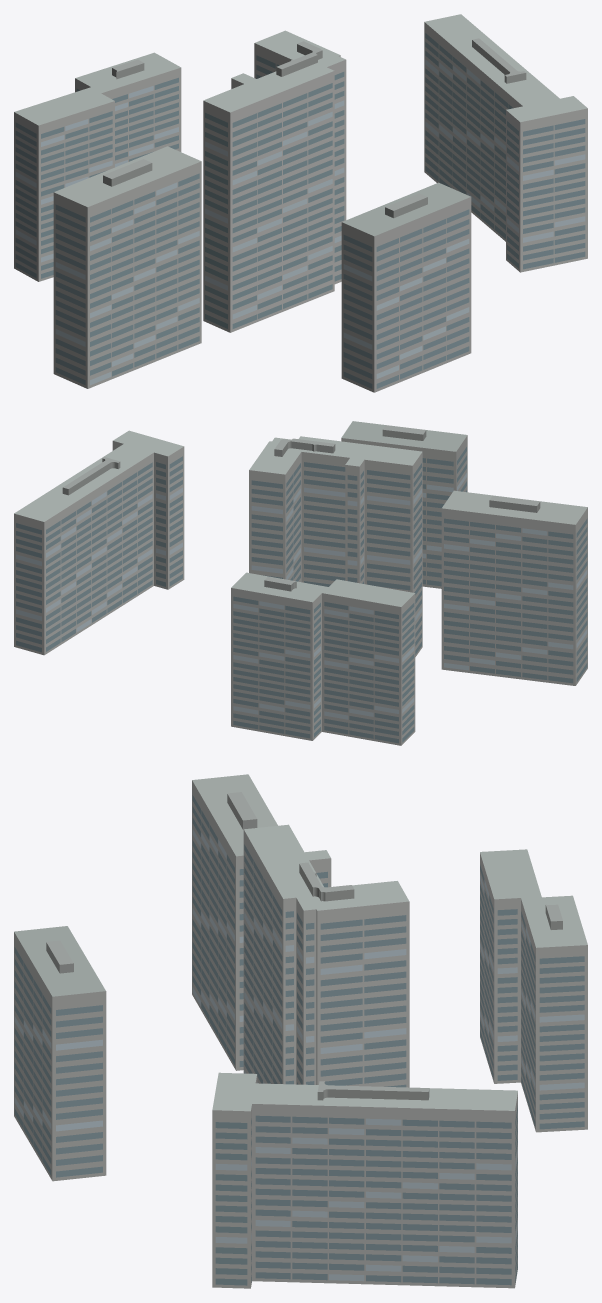
File: apt-a13075403.glb
3 renders of one model, top to bottom at view 1: azimuth 30°, elevation 25°; view 2: azimuth 150°, elevation 25°; view 3: azimuth 270°, elevation 25°, orthographic. The views are drawn at different scales.
Parts seen in each view (by area): view 1: apt-a13075403; view 2: apt-a13075403; view 3: apt-a13075403.
Boxes of the visible parts, <box> form: apt-a13075403: <box>14,14,587,392</box>; apt-a13075403: <box>14,421,587,745</box>; apt-a13075403: <box>14,774,587,1288</box>.
Size of the model in its own units: 170 by 71 by 137.
